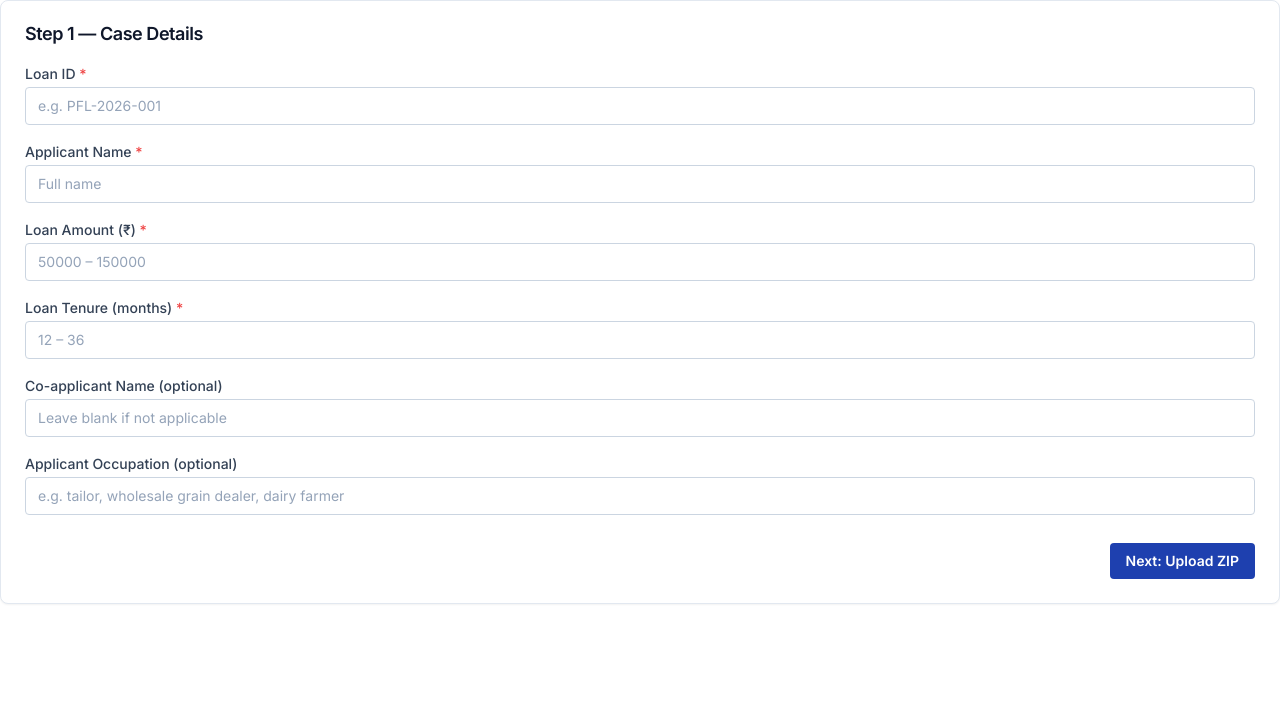
Test: Step1Details › shows validation error for loan_amount below 50000
Type "PFL-001" into the field labelled "Loan ID *" at (640, 106), box [25,87,1255,125]
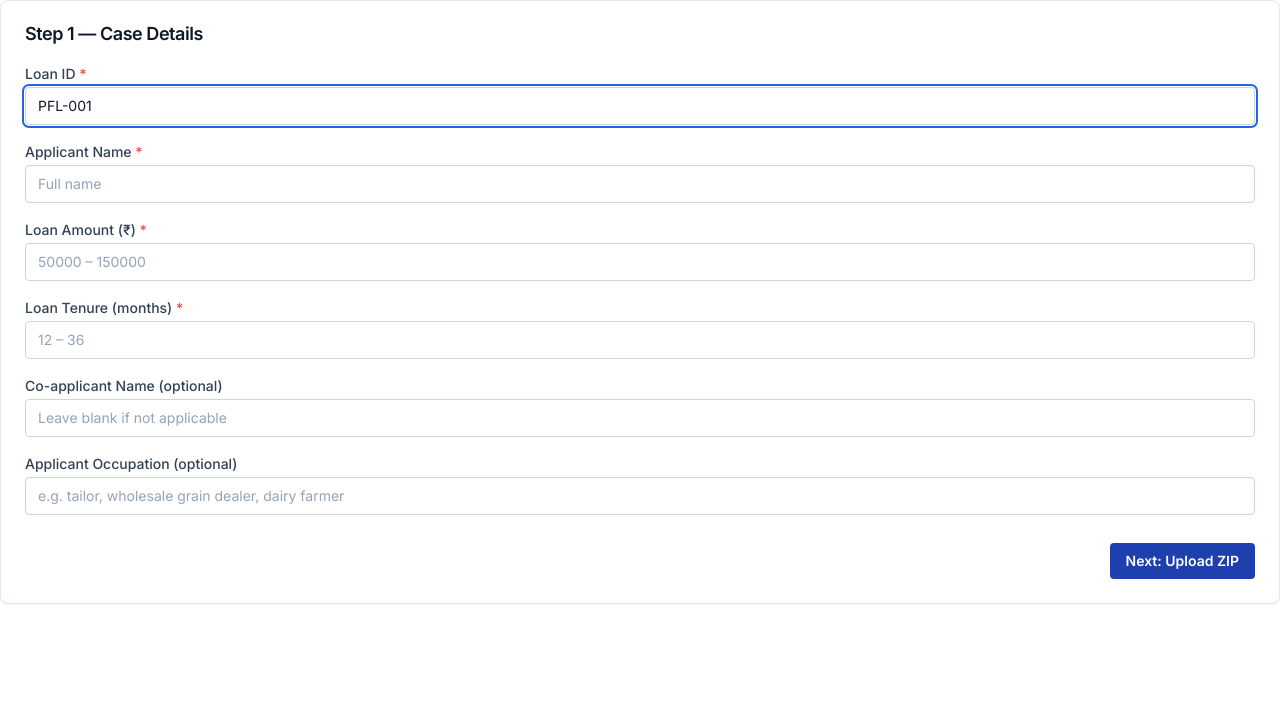
Type "Alice Smith" into the field labelled "Applicant Name *" at (640, 184), box [25,165,1255,203]
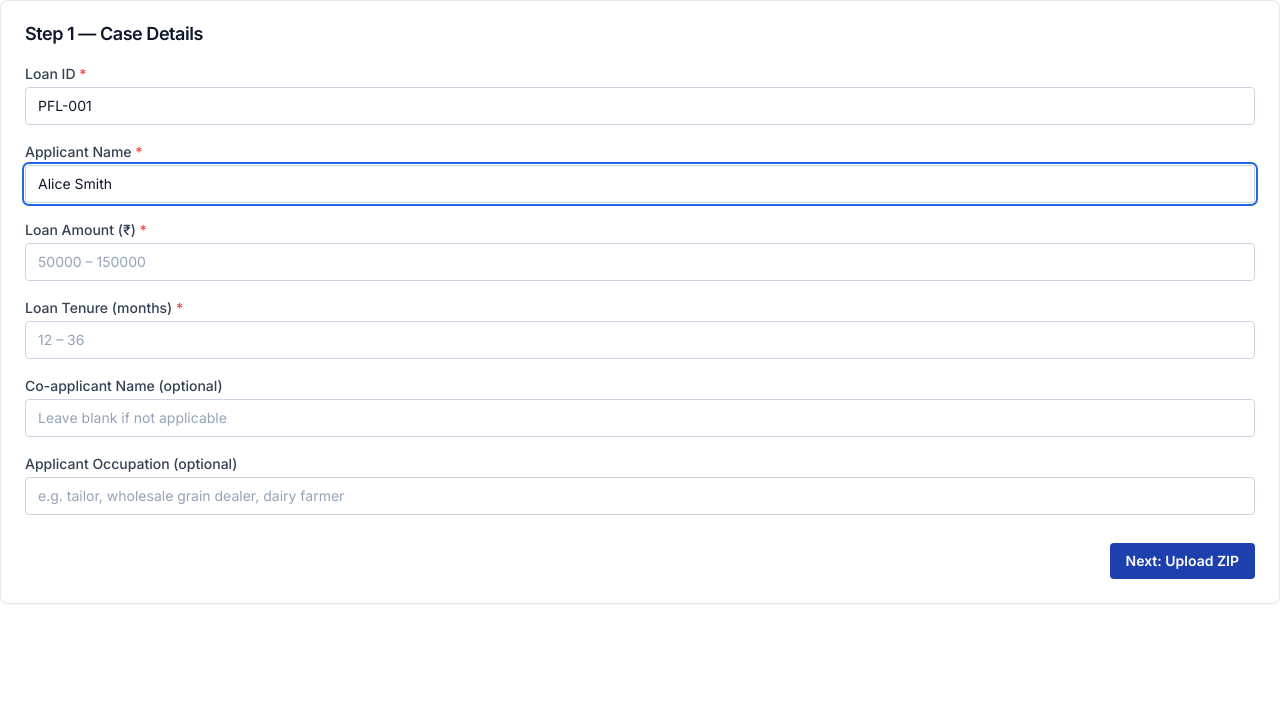
Type "1000" into the number field labelled "Loan Amount (₹) *" at (640, 262), box [25,243,1255,281]
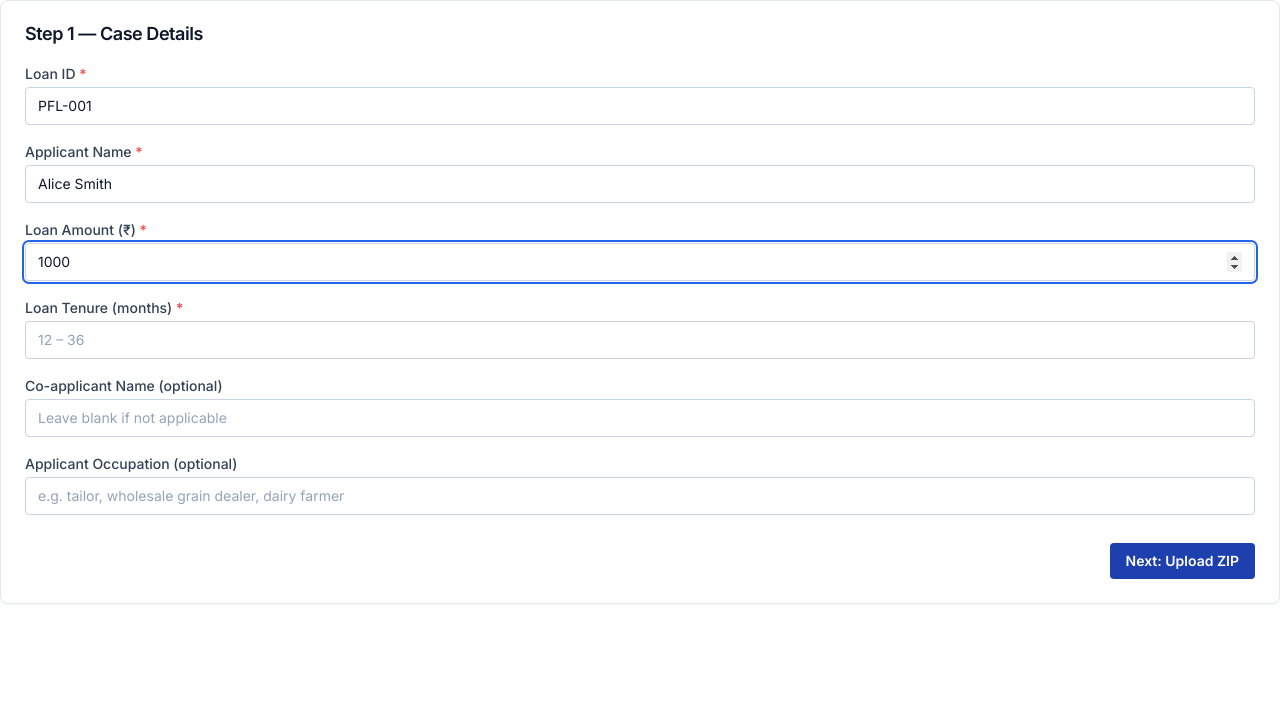
Type "12" into the number field labelled "Loan Tenure (months) *" at (640, 340), box [25,321,1255,359]
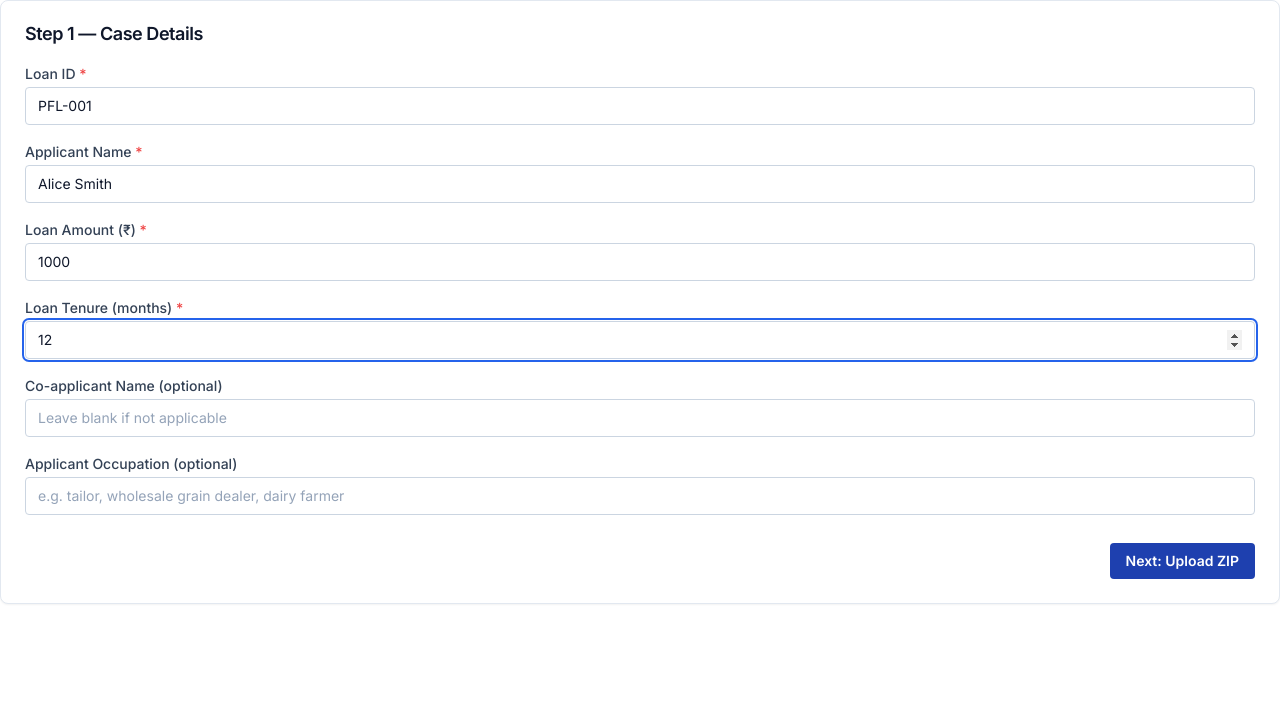
Click the button "Next: Upload ZIP" at (1182, 561), box [1110,543,1255,579]
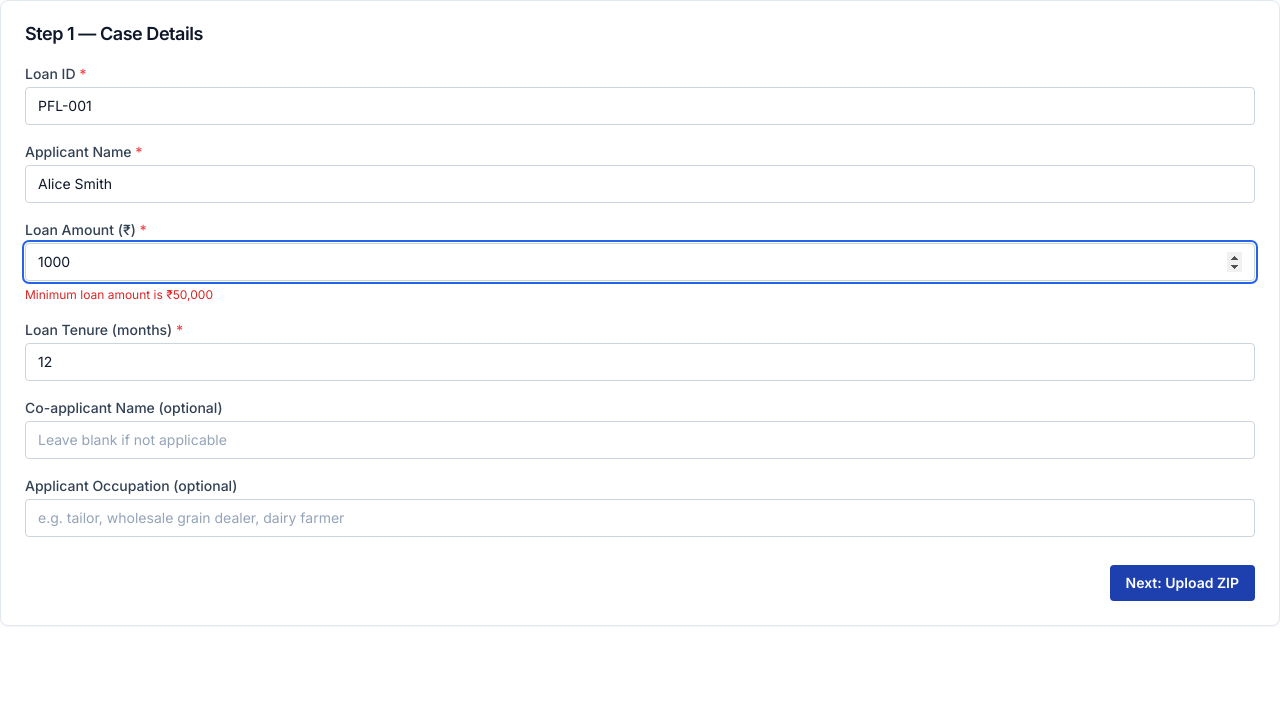
Result: the text "Minimum loan amount is ₹50,000" is shown at [25,287,213,302]
